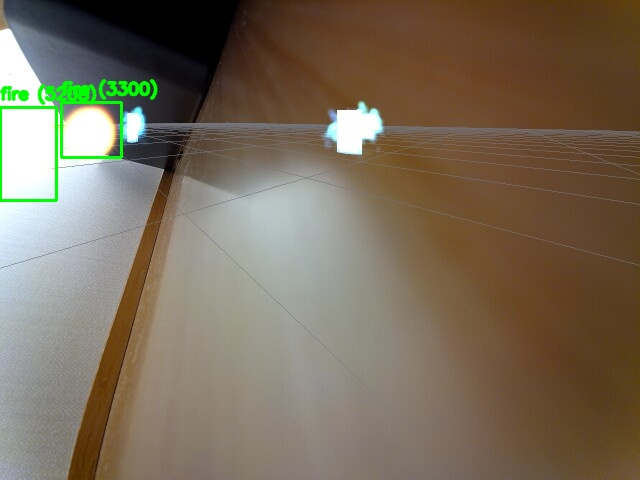fire: (0, 107, 56, 200), (61, 102, 121, 157)
